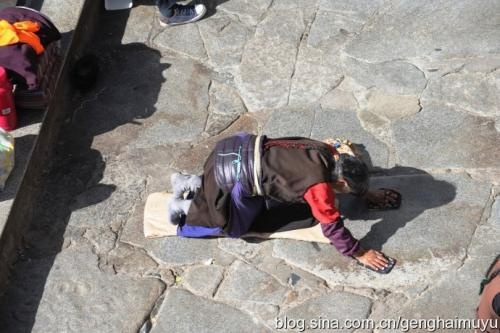falling: (157, 128, 403, 272)
